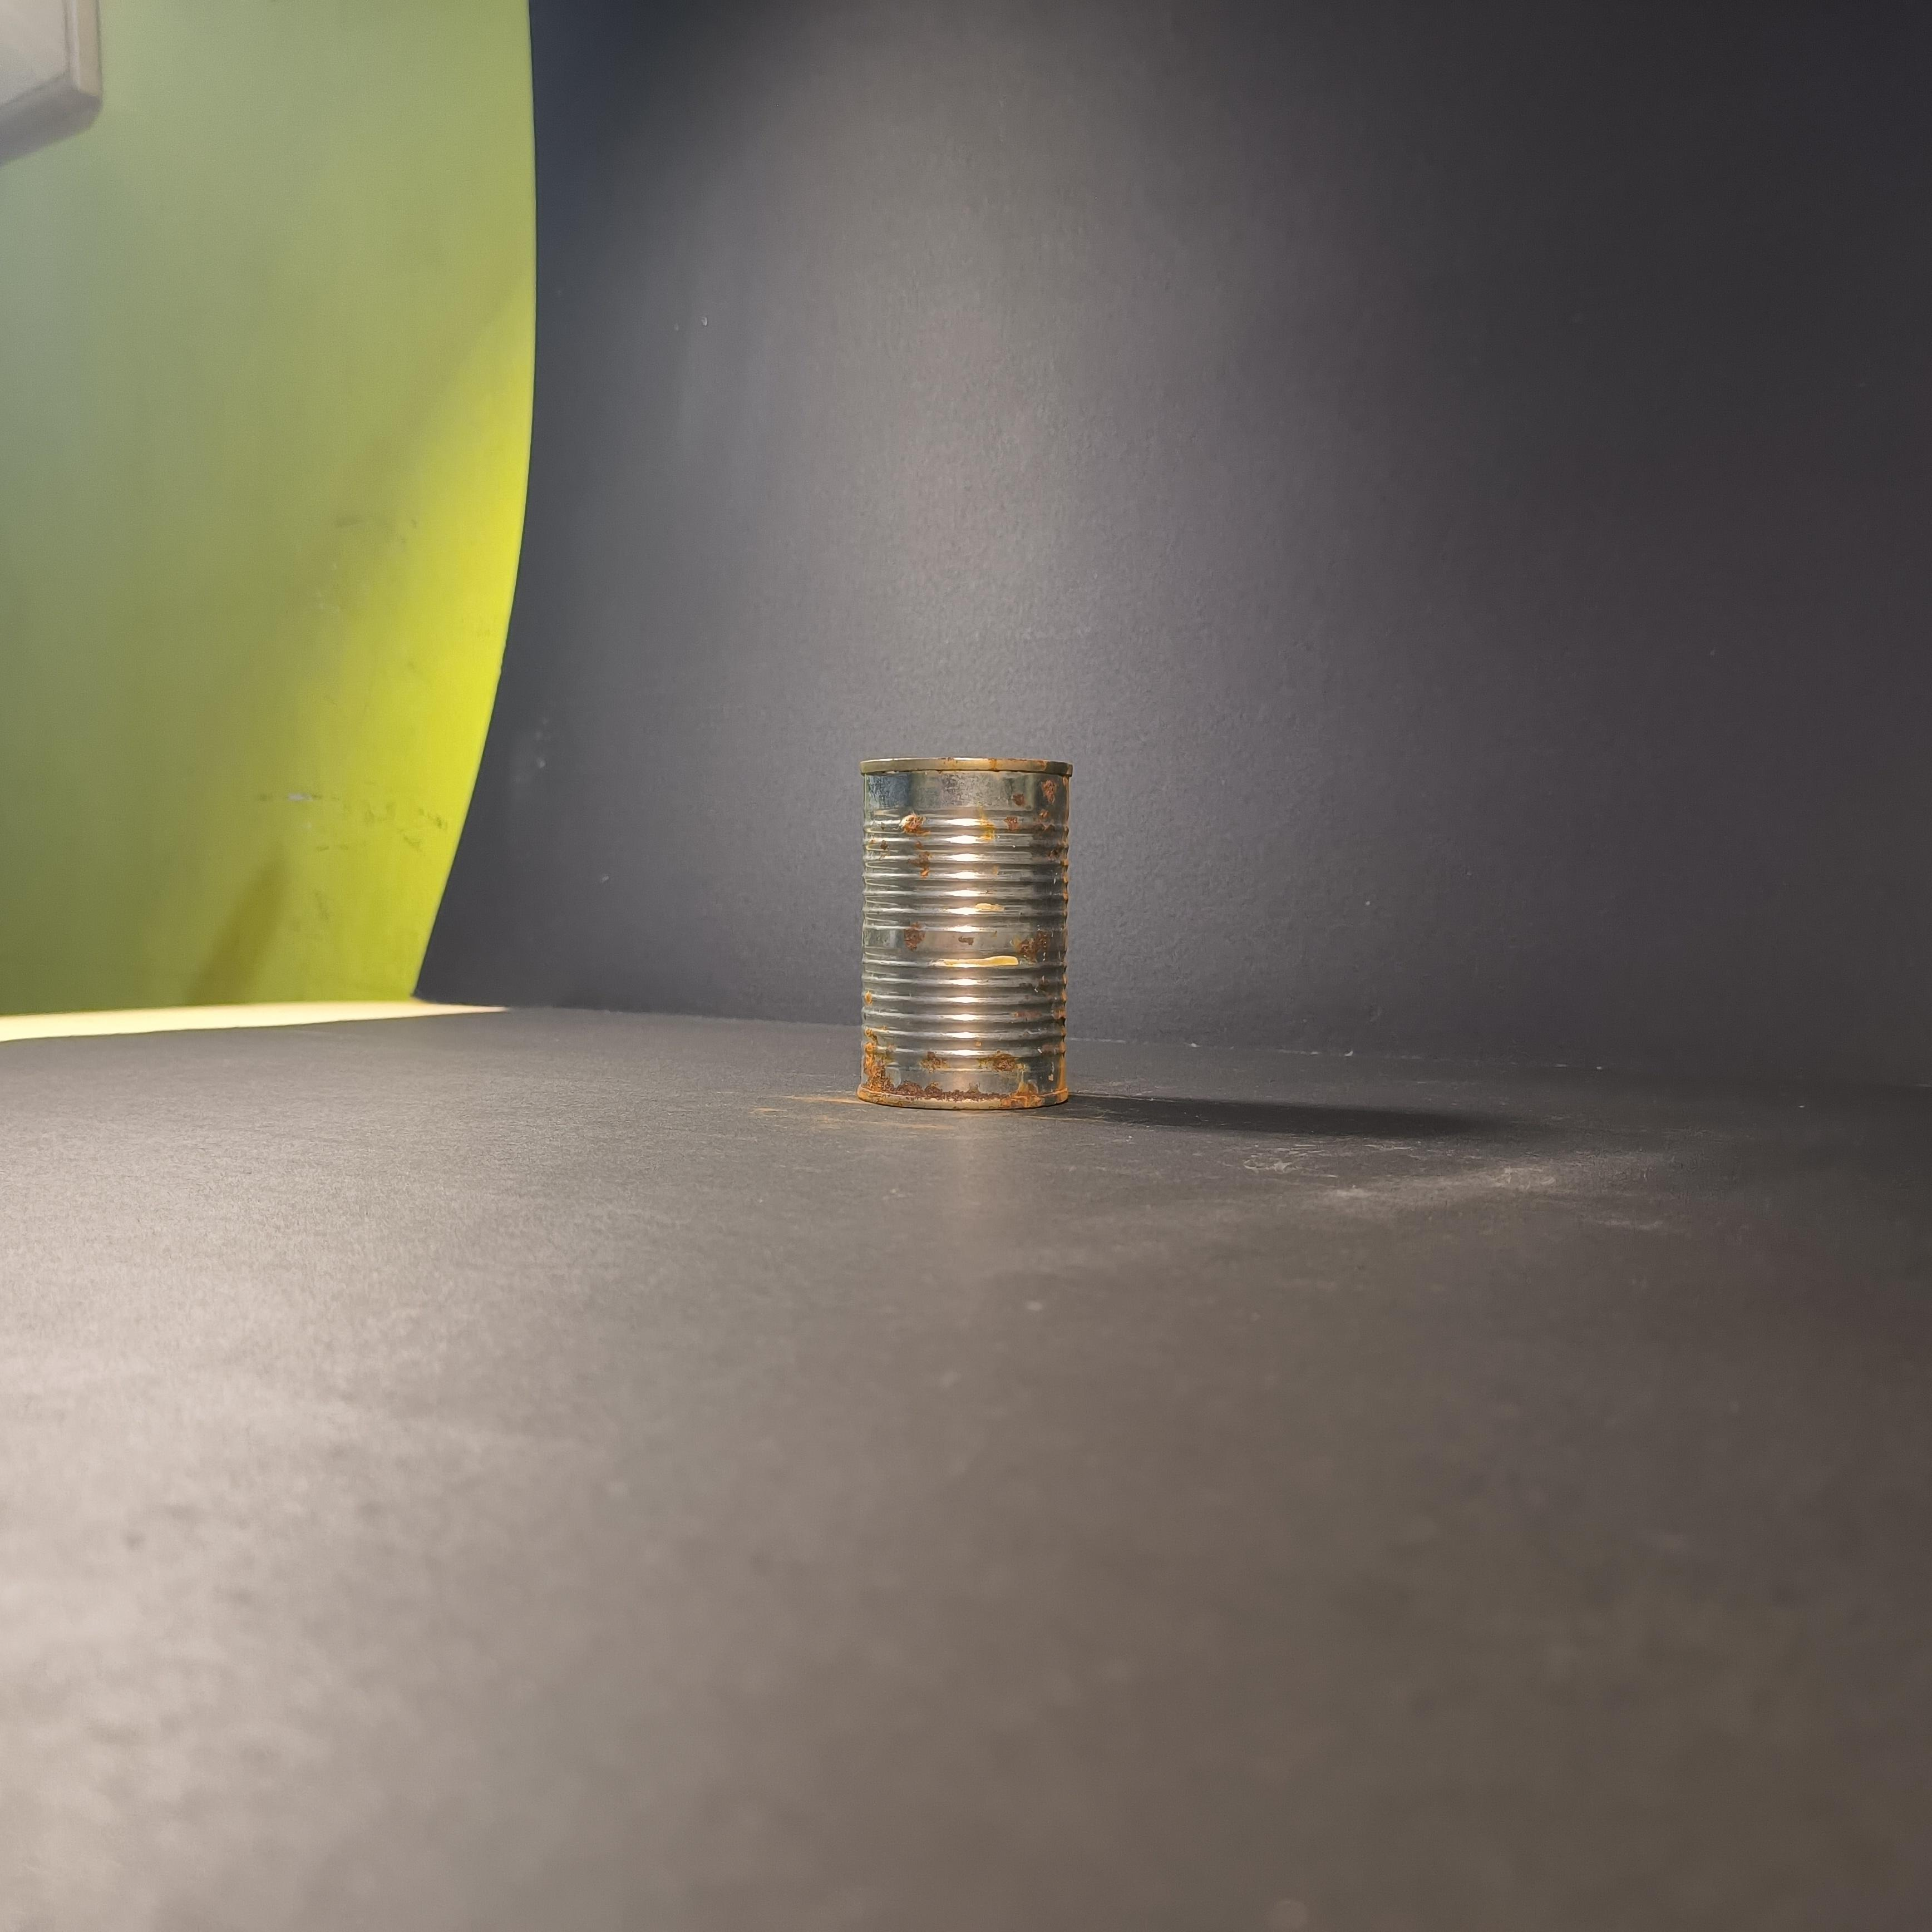Rusted: (842, 752, 1099, 1132)
